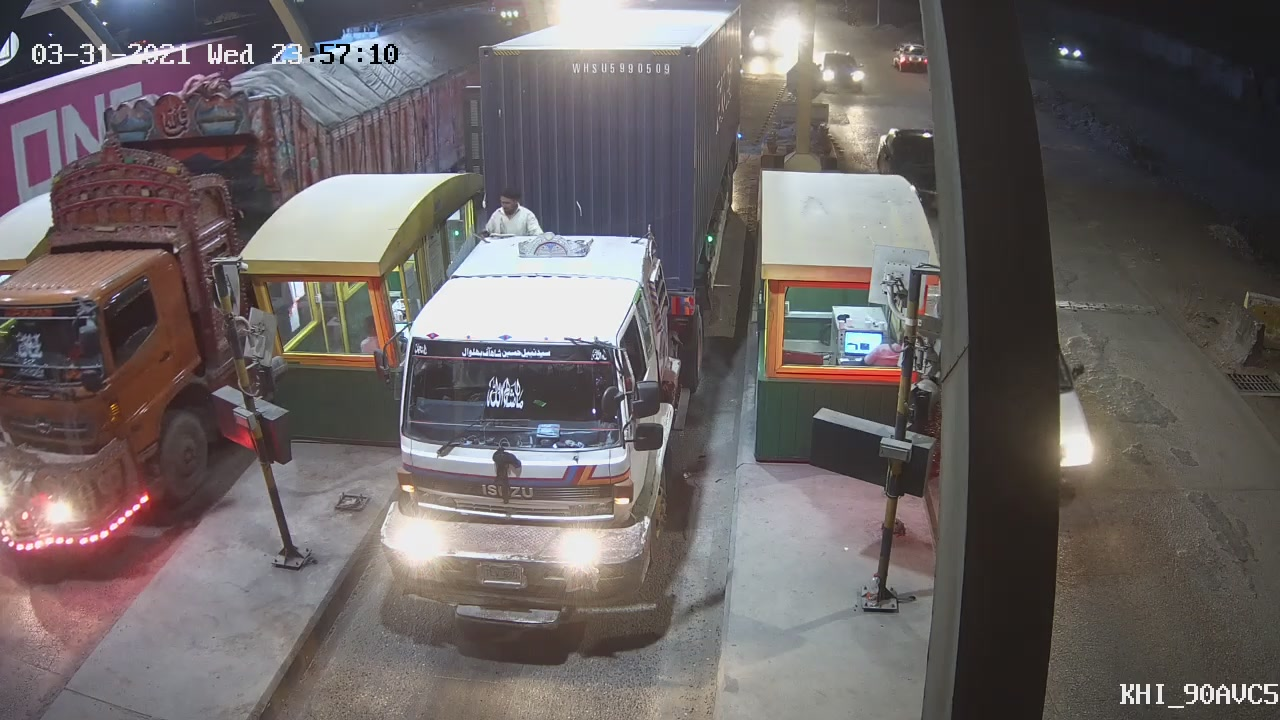F5: (335, 30, 717, 662)
